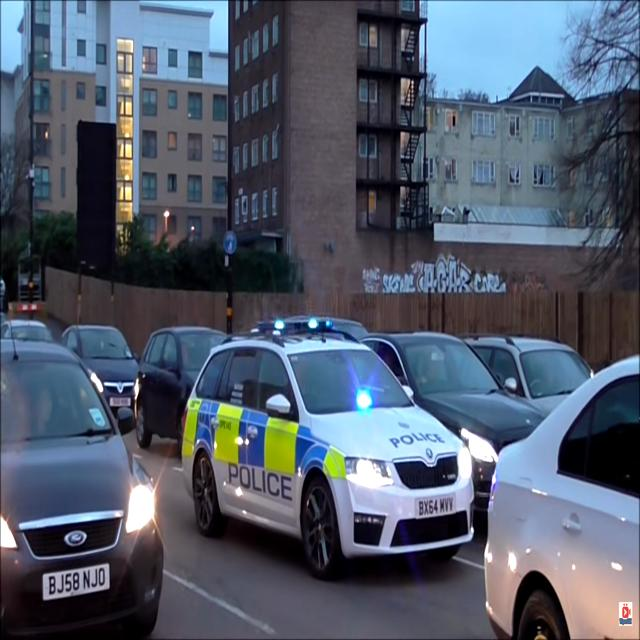emergency-vehicles: (180, 312, 480, 588)
